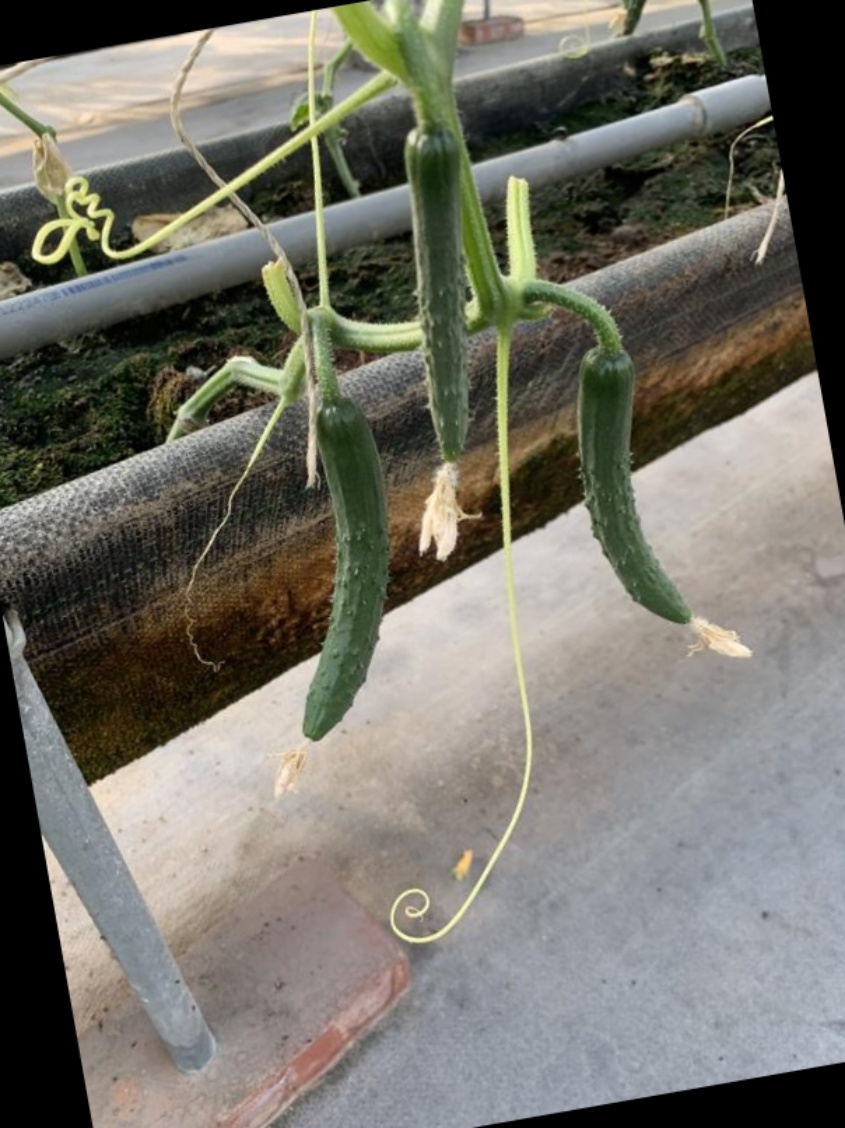growth: (572, 337, 711, 642), (397, 119, 481, 474)
